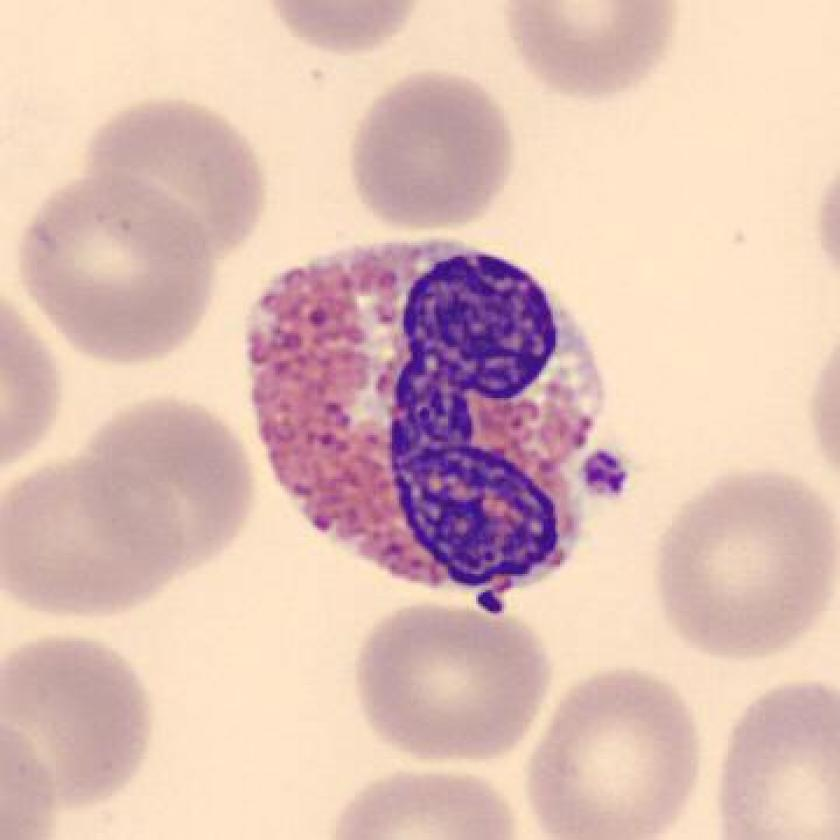eosinophil: (227, 221, 638, 614)
